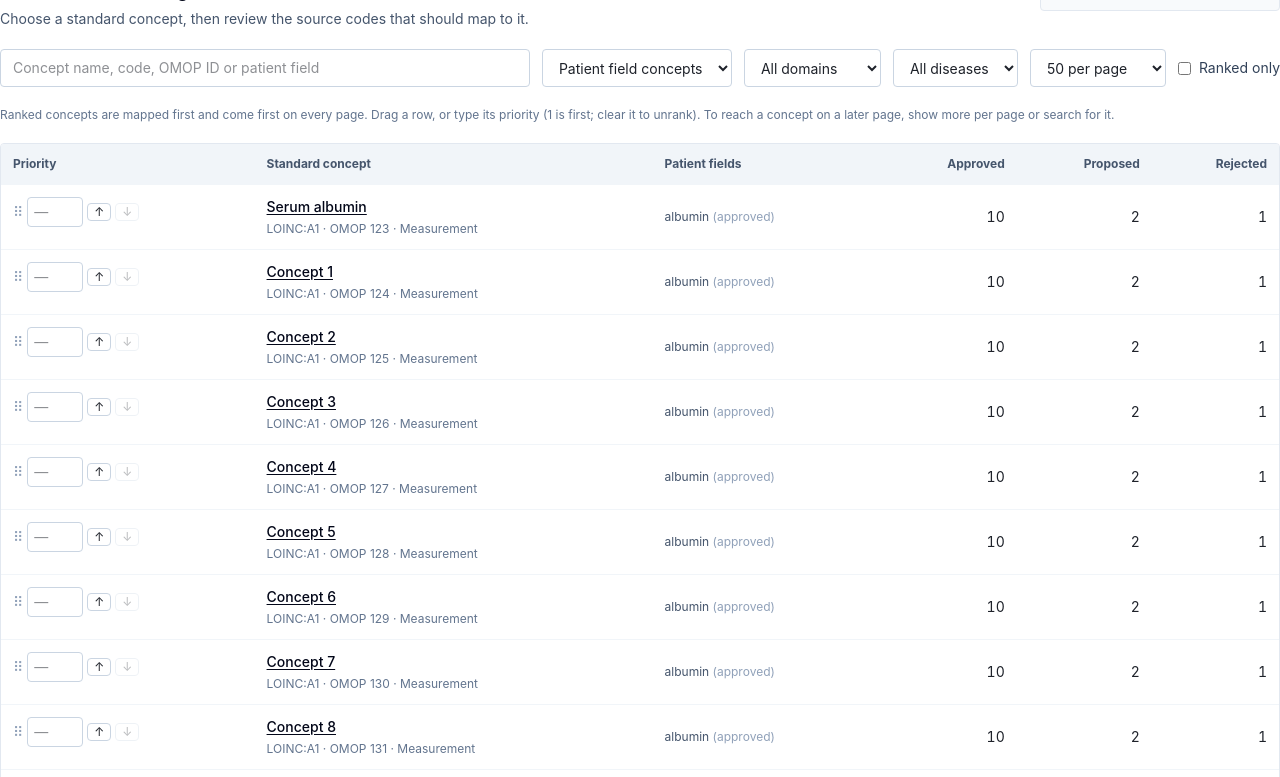
Scenario: concept-first curation › opens a dialog immediately from a long concept list and shows source loading errors inside it
The image size is (1280, 777).
Click the button "Serum albumin": (317, 207) x1=267 y1=197 x2=367 y2=217
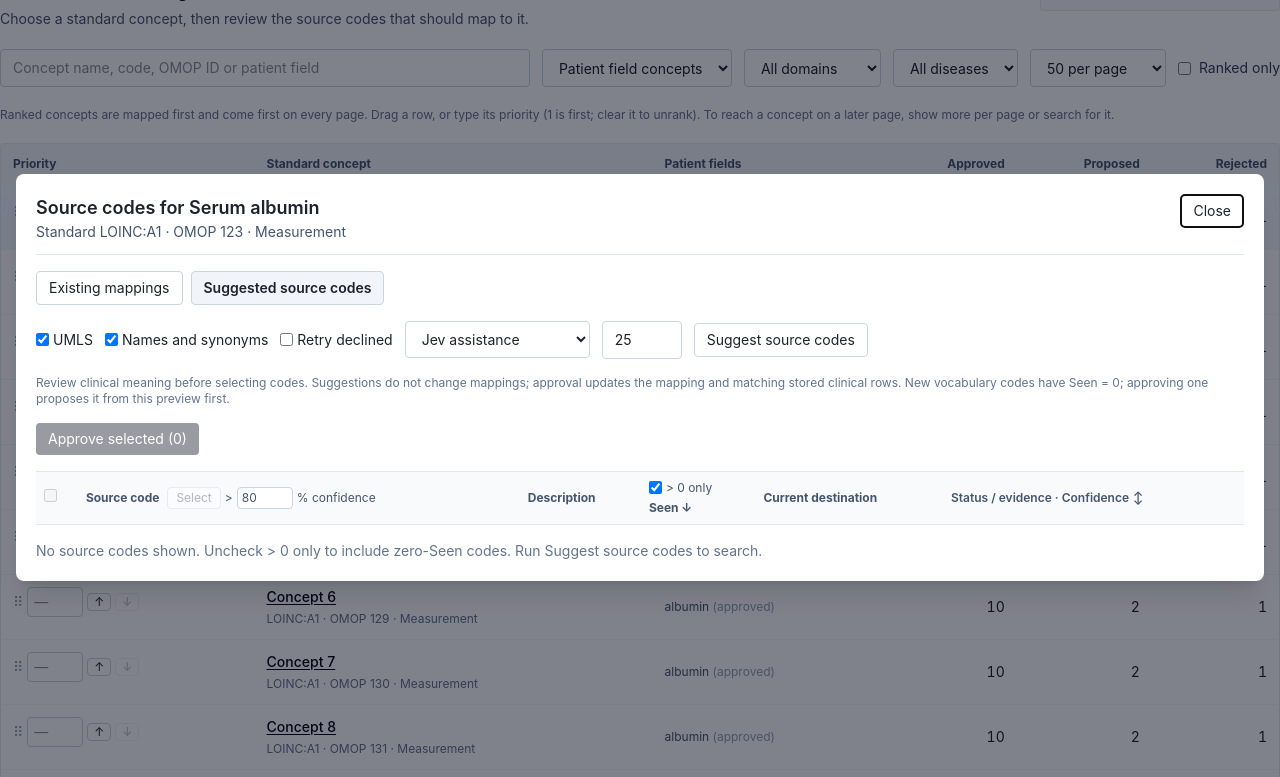
Expected: the text "Standard LOINC:A1 · OMOP 123 · Measurement" is shown, x1=36 y1=222 x2=346 y2=242
Click the button "Existing mappings": (109, 288) x1=36 y1=270 x2=182 y2=304
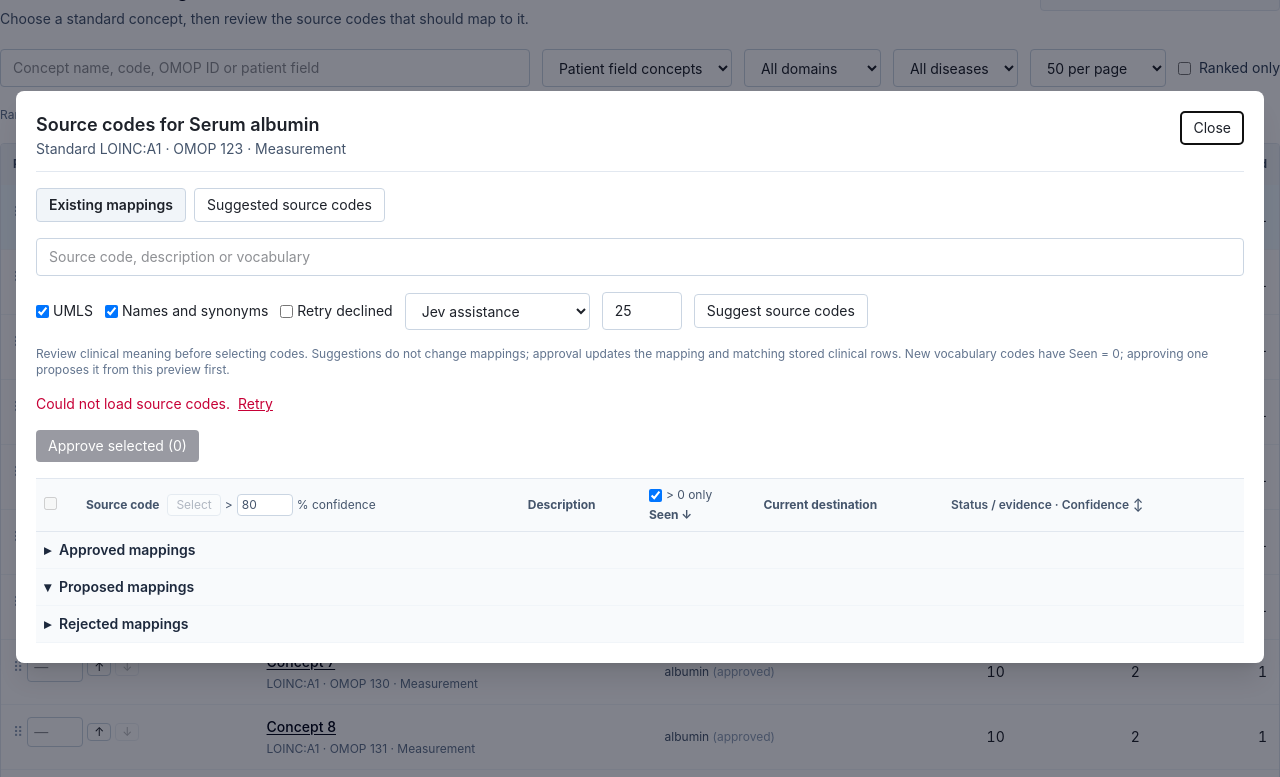
Expected: the message shows "Could not load source codes.", x1=36 y1=395 x2=230 y2=412
Click the button "Close": (1212, 128) x1=1180 y1=111 x2=1244 y2=145
(page scrolled)
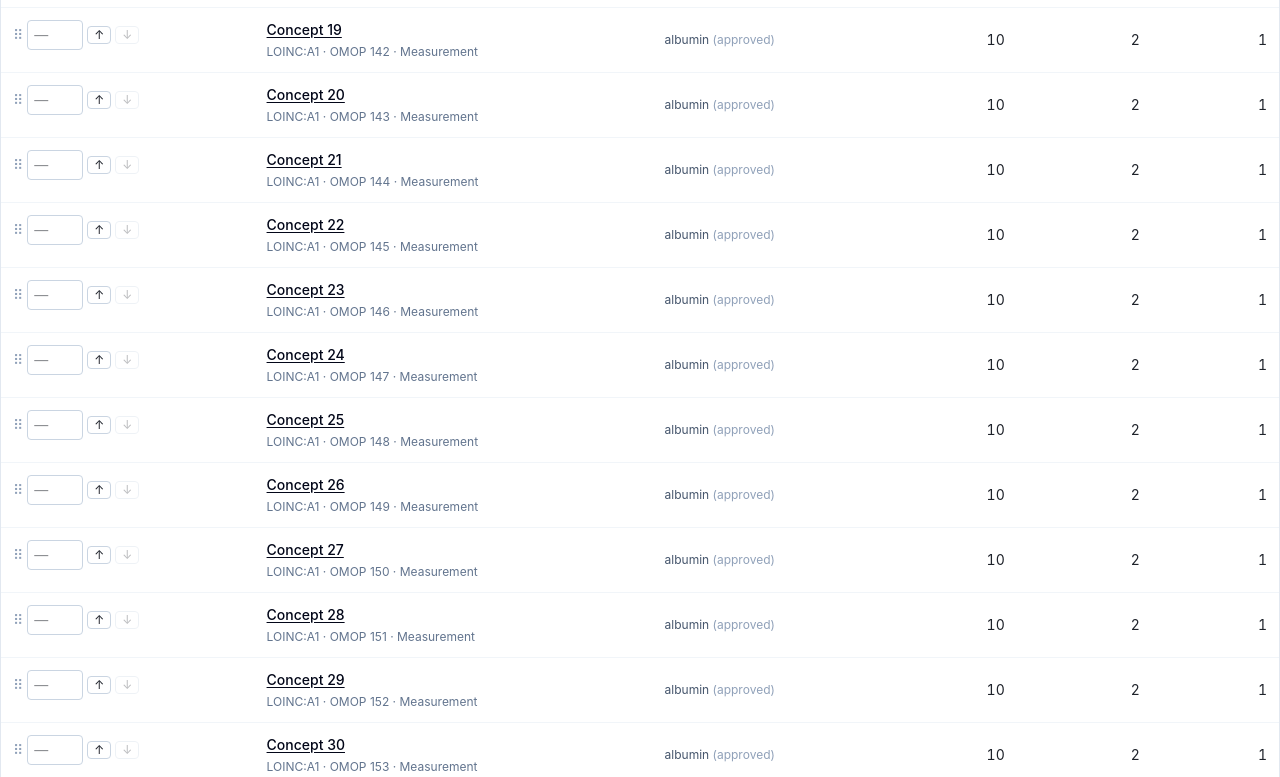
Expected: the dialog is gone
